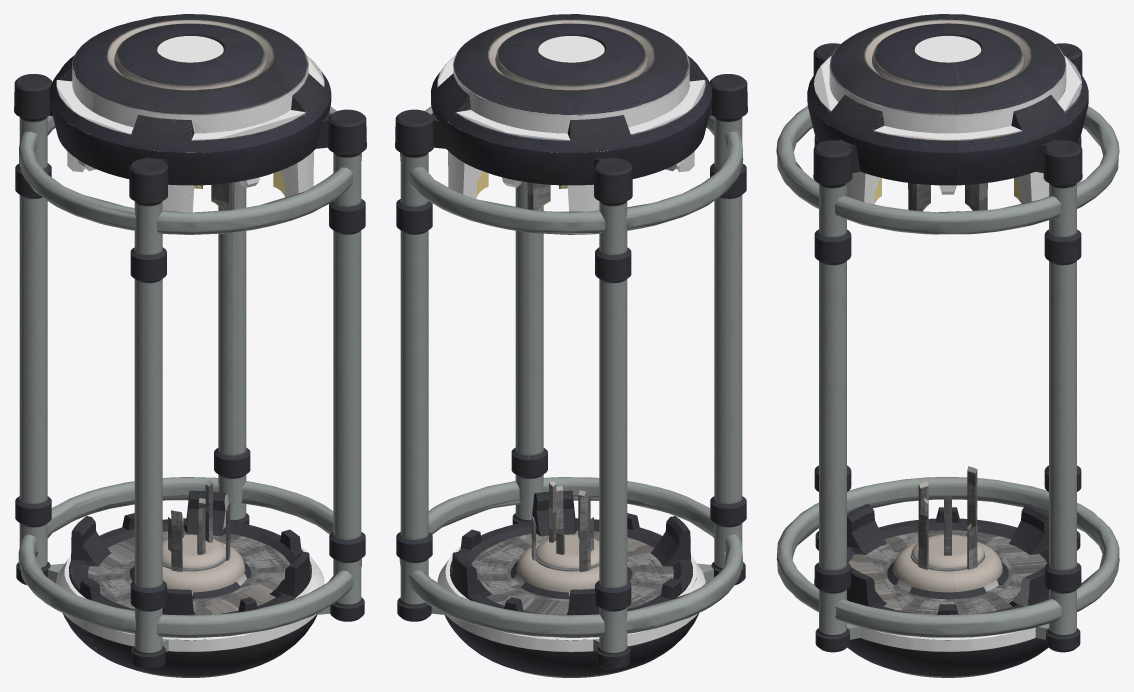
The model's file is mdl_chazzyb_sci_canisterholder.glb.
The picture shows the model from 3 angles, left to right: view 1: azimuth 30°, elevation 25°; view 2: azimuth 150°, elevation 25°; view 3: azimuth 270°, elevation 25°; orthographic projection.
Parts seen in each view (by area): view 1: A_CapsuleSealed_LOD0; view 2: A_CapsuleSealed_LOD0; view 3: A_CapsuleSealed_LOD0.
Boxes of the visible parts, x1,y1,x2,y2 form: A_CapsuleSealed_LOD0: (14,14,366,677); A_CapsuleSealed_LOD0: (395,14,747,677); A_CapsuleSealed_LOD0: (776,14,1119,677).
Size of the model in its own units: 0.5903 by 1.15 by 0.5902.
Materials: 3 (3 with a texture image).
